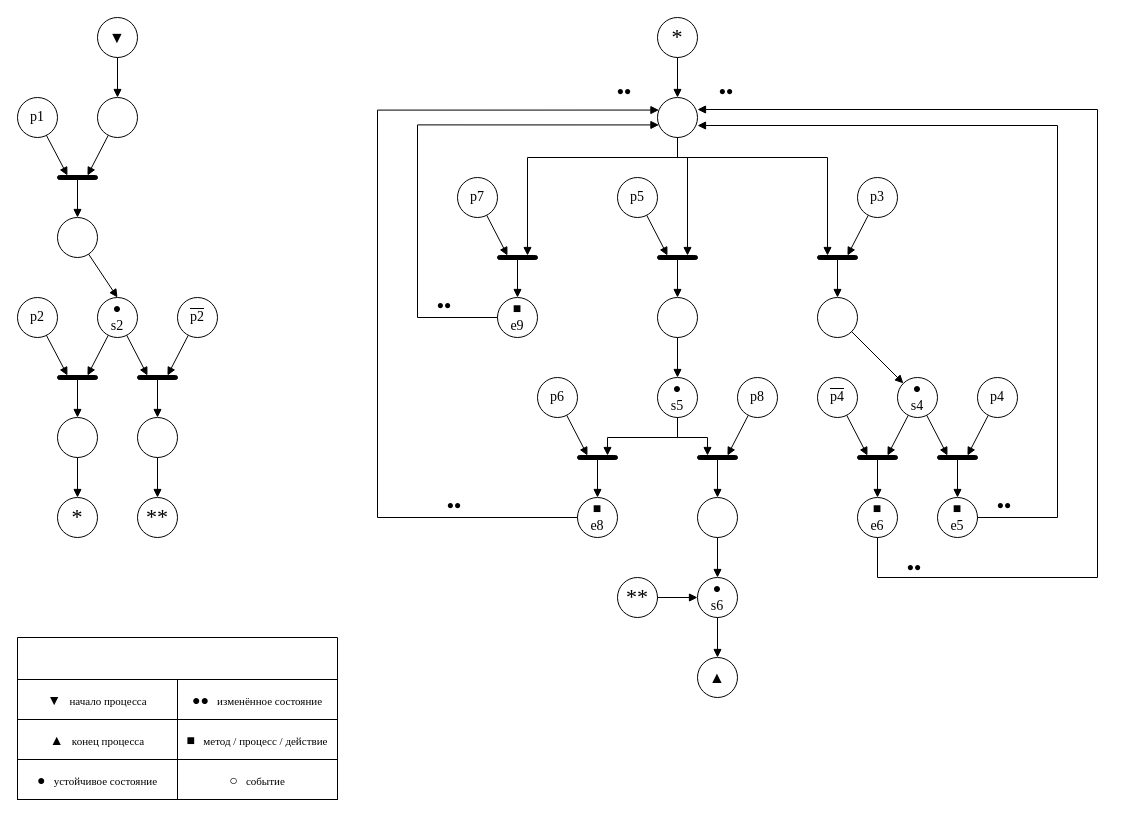
This 1123x817 diagram has some shape labels left out. Each missing label, with the box of its shape:
Легенда: (16, 636, 338, 800)
■ e1: (56, 216, 98, 258)
■ e10: (696, 496, 738, 538)
■ e2: (56, 416, 98, 458)
■ e3: (136, 416, 178, 458)
■ e4: (816, 296, 858, 338)
■ e7: (656, 296, 698, 338)
● s1: (96, 96, 138, 138)
● s3: (656, 96, 698, 138)
